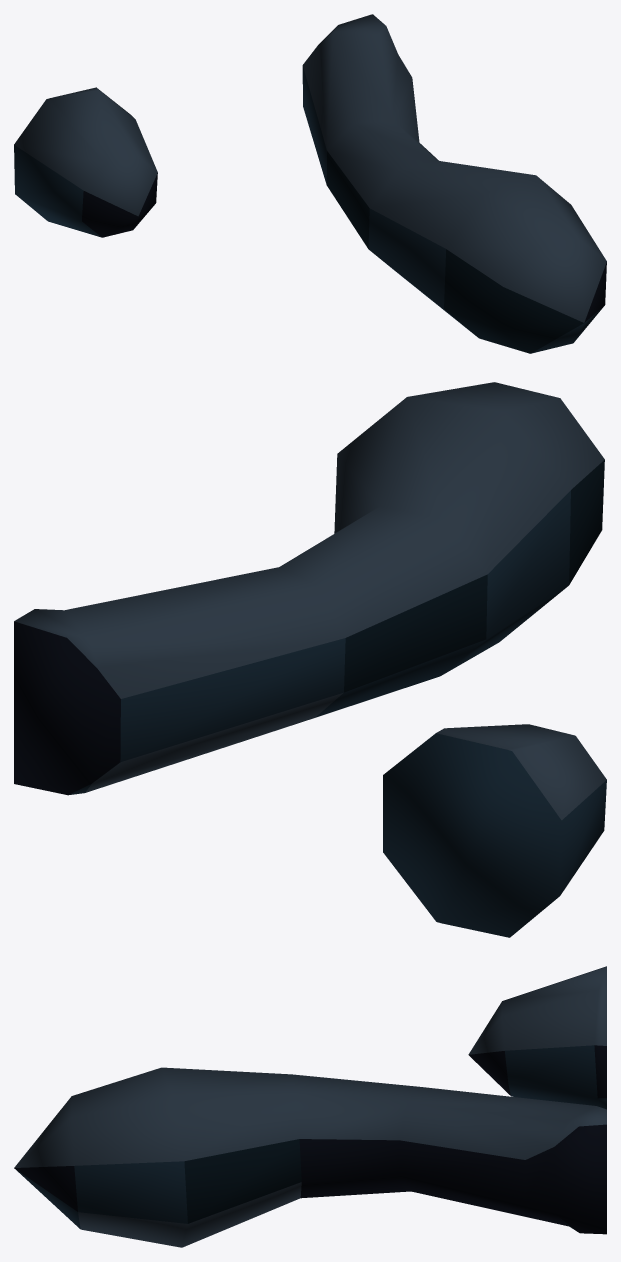
The model's file is newshn-153.glb.
3 renders of one model, top to bottom at view 1: azimuth 30°, elevation 25°; view 2: azimuth 150°, elevation 25°; view 3: azimuth 270°, elevation 25°, orthographic. The views are drawn at different scales.
Visible parts, largest first — view 1: newshn-153; view 2: newshn-153; view 3: newshn-153.
Boxes of the visible parts, x1,y1,x2,y2 form: newshn-153: (14,14,606,353); newshn-153: (14,382,606,937); newshn-153: (14,966,606,1247).
Bounding box in the file's own units: 0.7434 × 0.2922 × 1.03.
